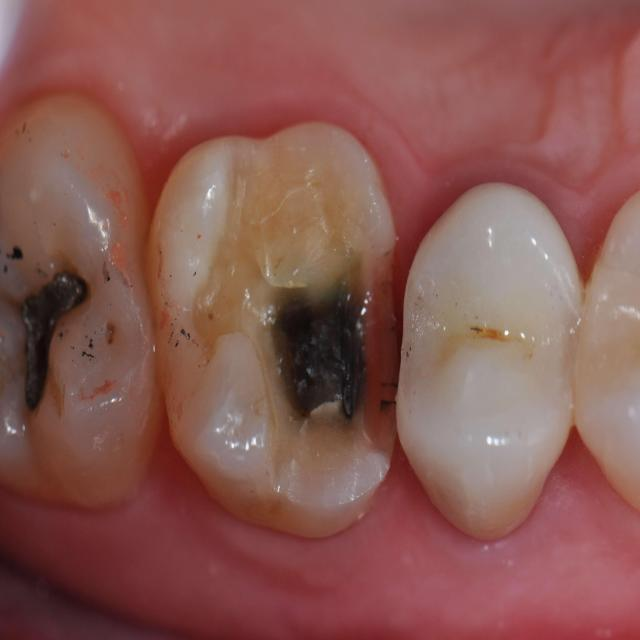caries: (146, 122, 408, 539), (0, 102, 146, 502)
